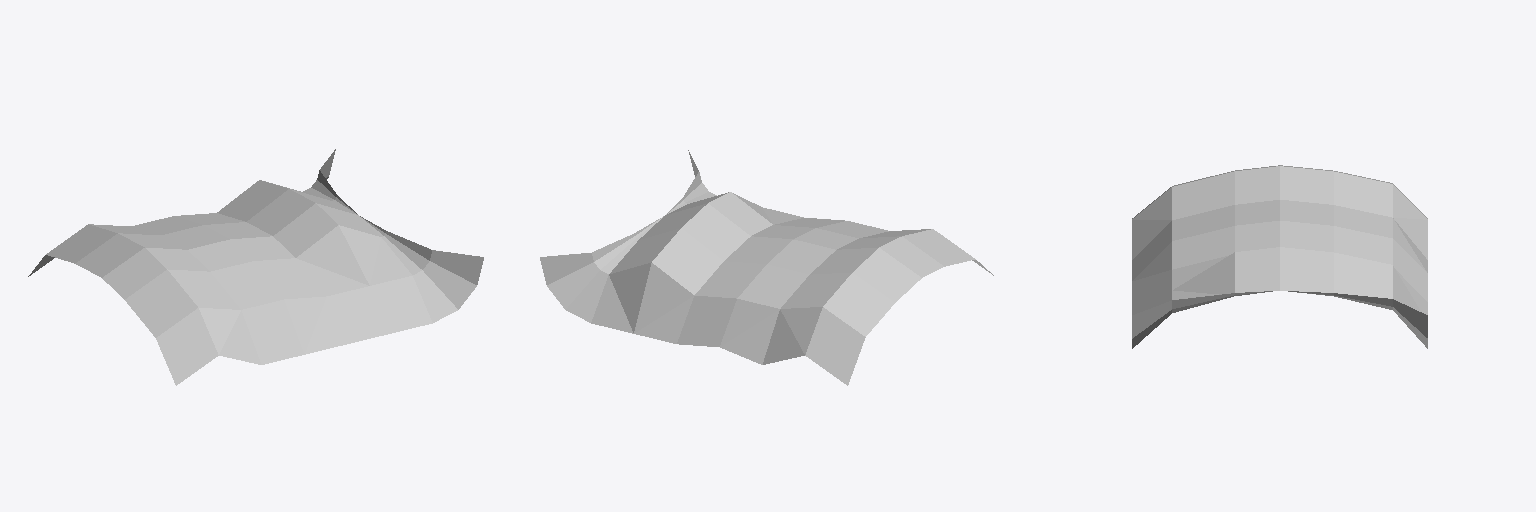
File: cave_wall.obj
3 renders of one model, left to right at view 1: azimuth 30°, elevation 25°; view 2: azimuth 150°, elevation 25°; view 3: azimuth 270°, elevation 25°, orthographic.
Visible parts, largest first — view 1: Plane.001; view 2: Plane.001; view 3: Plane.001.
Boxes of the visible parts, x1=… form: Plane.001: x1=28, y1=149, x2=483, y2=385; Plane.001: x1=540, y1=150, x2=993, y2=385; Plane.001: x1=1132, y1=165, x2=1427, y2=348.
Size of the model in its own units: 1.2 by 0.2844 by 1.